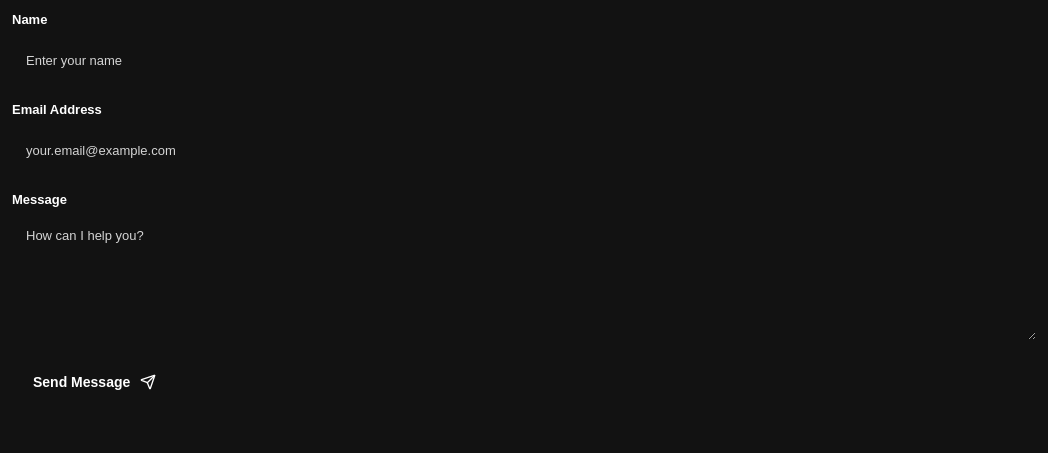
Test: ContactForm › preserves values when the EmailJS request cannot be reached
Type "Casey Visitor" into the field labelled "Name".
click(524, 60); type("Casey Visitor")  # box [12,36,1036,84]
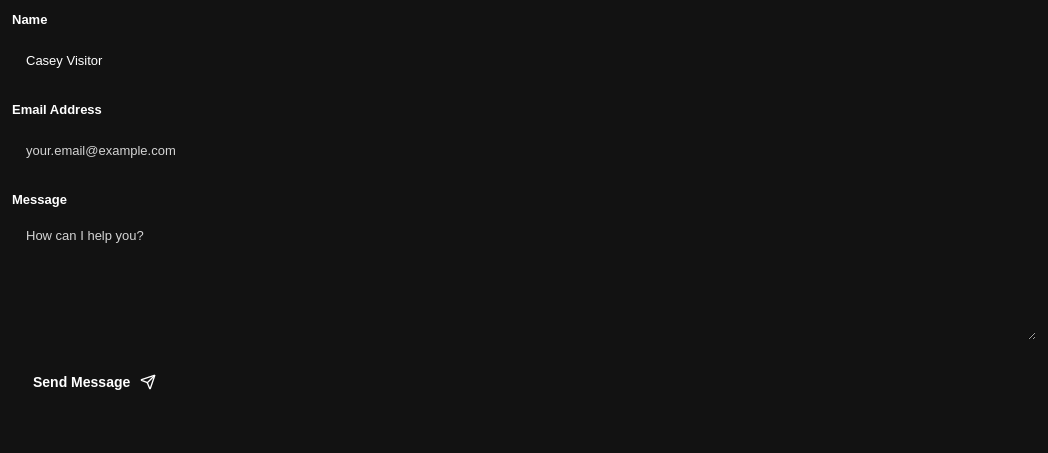
Type "casey@example.test" into the field labelled "Email Address".
click(524, 150); type("casey@example.test")  # box [12,126,1036,174]
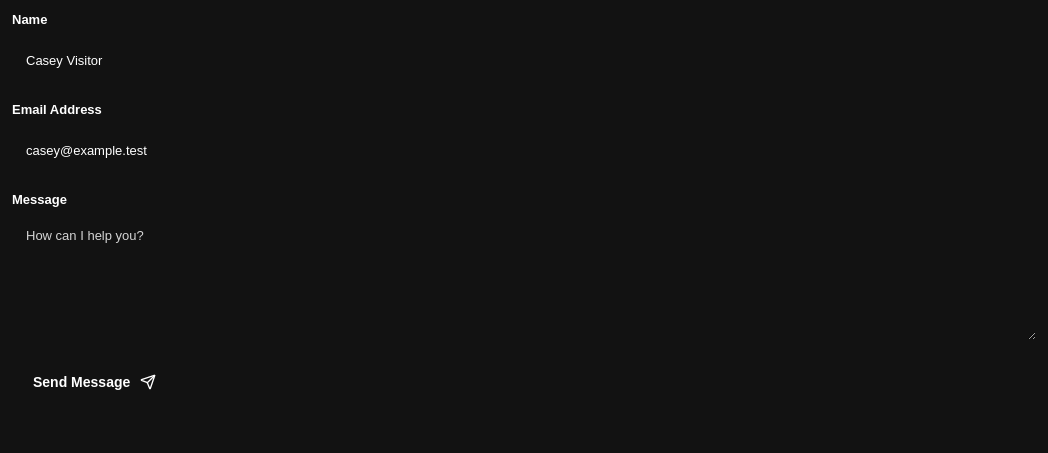
Type "I'd like to discuss a project." into the text box labelled "Message".
click(524, 278); type("I'd like to discuss a project.")  # box [12,216,1036,340]
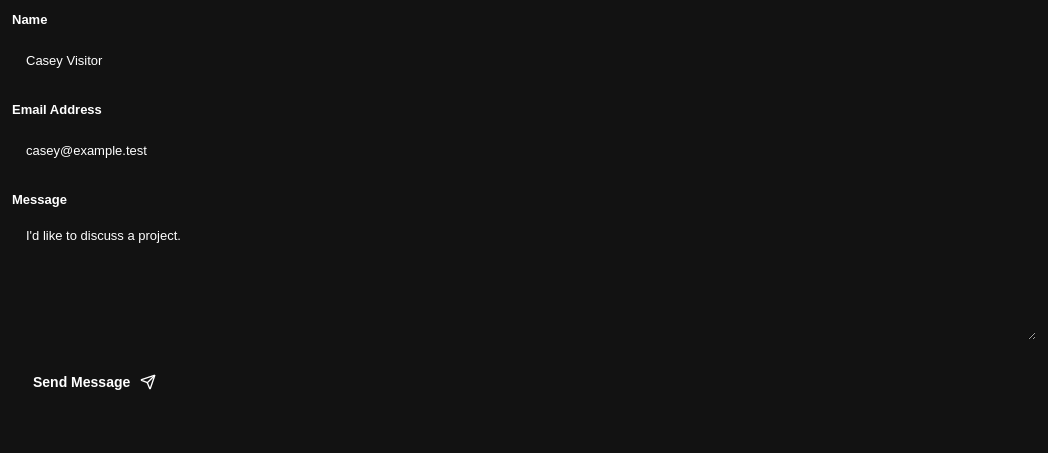
Submit the form
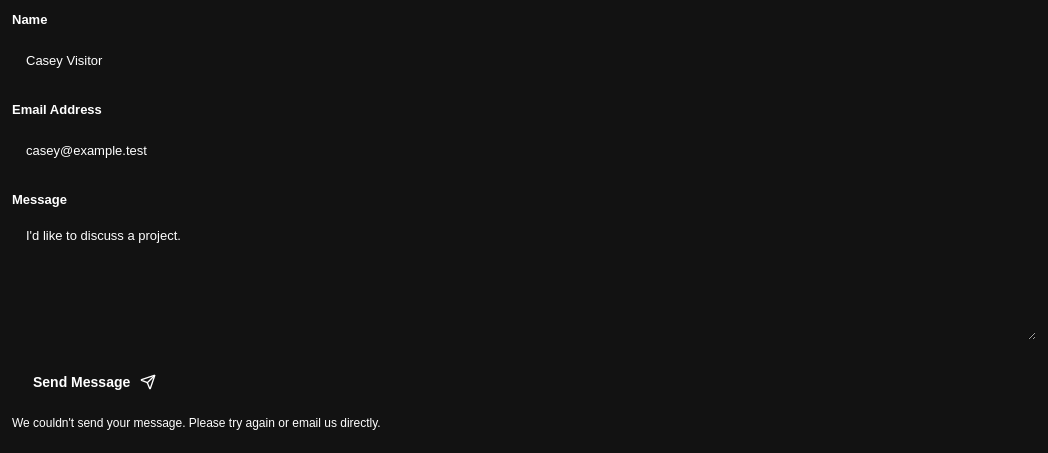
Expected: the message shows "couldn't send", [12,416,381,430]
